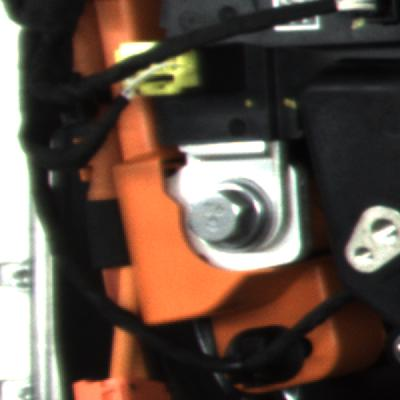nut_b: (178, 158, 287, 270)
